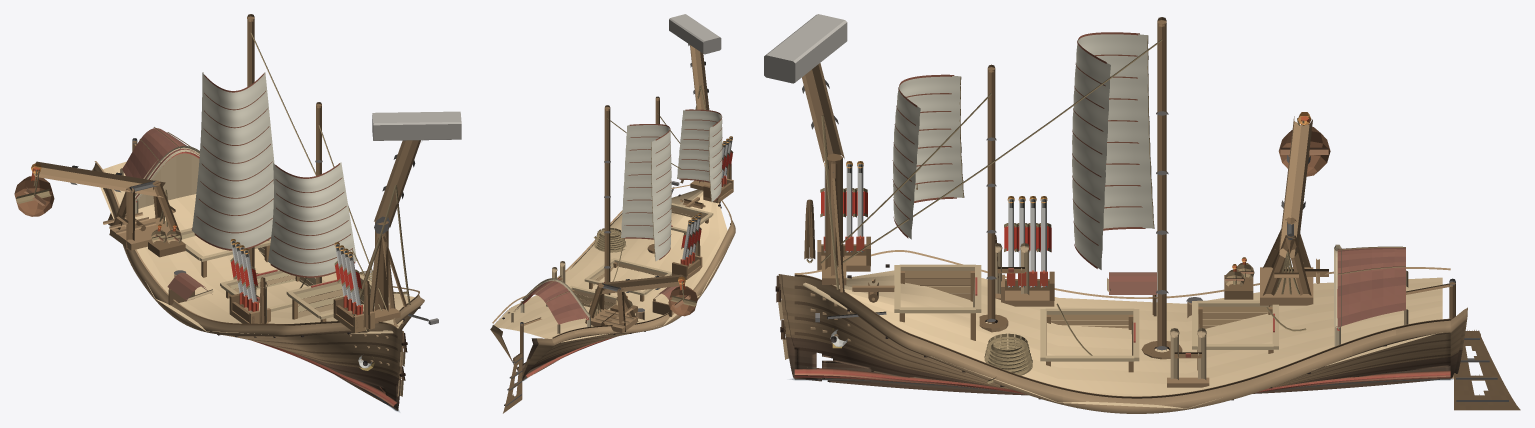
Rendered from song_quanzhou.glb.
3 renders of one model, left to right at view 1: azimuth 30°, elevation 25°; view 2: azimuth 150°, elevation 25°; view 3: azimuth 270°, elevation 25°, orthographic. The views are drawn at different scales.
Parts seen in each view (by area): view 1: Fittings, Sails, Hull, Deck; view 2: Fittings, Sails, Deck, Hull; view 3: Fittings, Deck, Hull, Sails.
Part boxes in pixels (left/top/right/bottom): Fittings: left=14, top=14, right=461, bottom=410; Sails: left=192, top=72, right=356, bottom=276; Hull: left=92, top=162, right=424, bottom=409; Deck: left=100, top=161, right=414, bottom=334; Fittings: left=492, top=14, right=733, bottom=413; Sails: left=621, top=110, right=722, bottom=260; Deck: left=494, top=189, right=729, bottom=342; Hull: left=490, top=213, right=735, bottom=380; Fittings: left=764, top=14, right=1520, bottom=410; Deck: left=803, top=270, right=1442, bottom=408; Hull: left=778, top=274, right=1467, bottom=413; Sails: left=893, top=34, right=1153, bottom=269.
Size of the model in its own units: 5.62 by 6.34 by 11.08.
